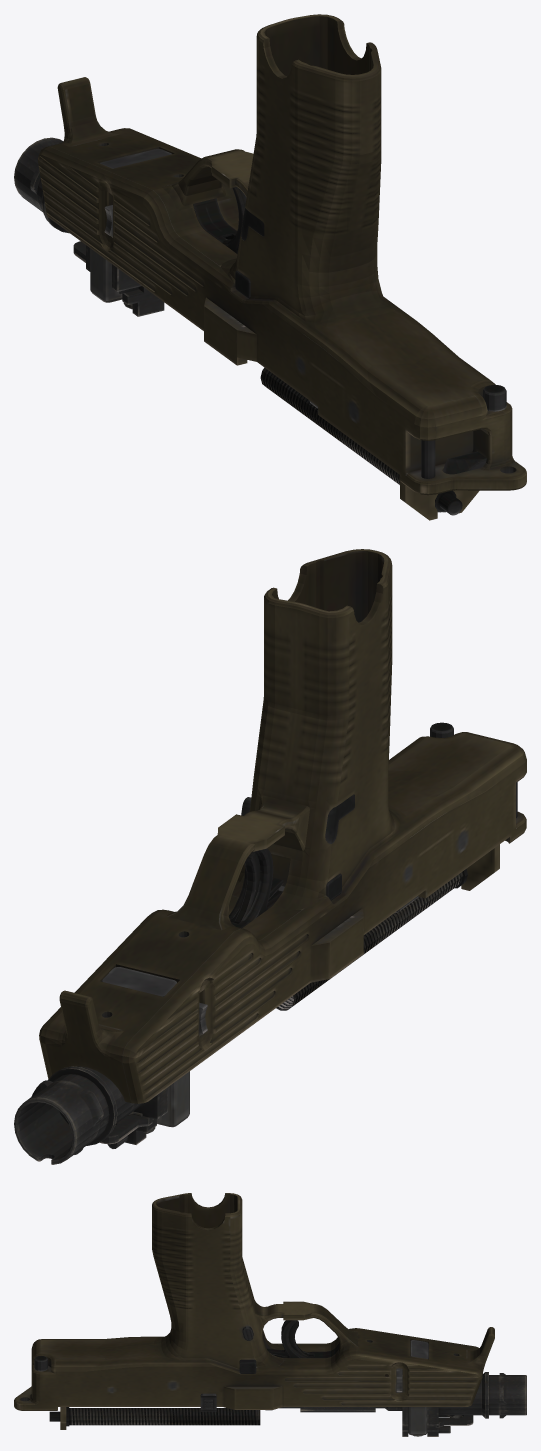
3 views of the same model, one above another, from view 1: azimuth 30°, elevation 25°; view 2: azimuth 150°, elevation 25°; view 3: azimuth 270°, elevation 25° (orthographic). The views are drawn at different scales.
Visible parts, largest first — view 1: TW_5e00903ae9dc277128008b87_PZ_Import; view 2: TW_5e00903ae9dc277128008b87_PZ_Import; view 3: TW_5e00903ae9dc277128008b87_PZ_Import.
Part boxes in pixels (box(x1,y1,x2,y2)): TW_5e00903ae9dc277128008b87_PZ_Import: box(14, 14, 526, 520); TW_5e00903ae9dc277128008b87_PZ_Import: box(14, 549, 526, 1164); TW_5e00903ae9dc277128008b87_PZ_Import: box(14, 1193, 526, 1436).
Bounding box in the file's own units: 0.0268 × 0.1751 × 0.087.
1 material, 1 textured.
